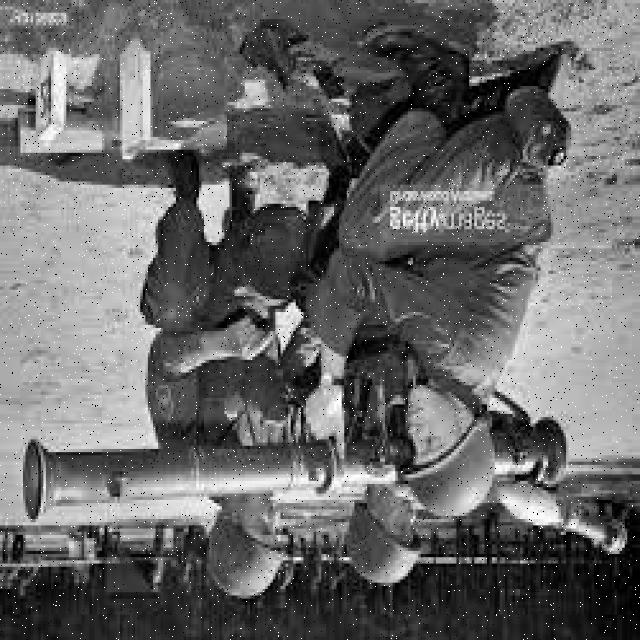bazooka: (15, 406, 572, 532)
